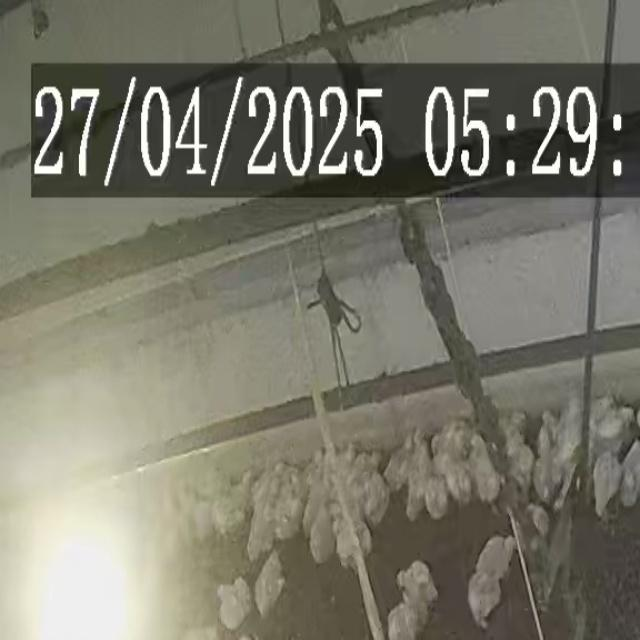chicken: (403, 426, 432, 520), (467, 435, 506, 503), (464, 572, 504, 625), (384, 600, 436, 640), (469, 534, 522, 572), (255, 552, 284, 620), (592, 452, 622, 517), (362, 450, 387, 526), (395, 561, 439, 603), (338, 509, 370, 566), (506, 416, 530, 491), (617, 438, 640, 515), (247, 496, 275, 559), (534, 428, 556, 501), (308, 507, 334, 568), (218, 582, 250, 628), (385, 438, 413, 490), (422, 470, 449, 522), (443, 460, 471, 507)
